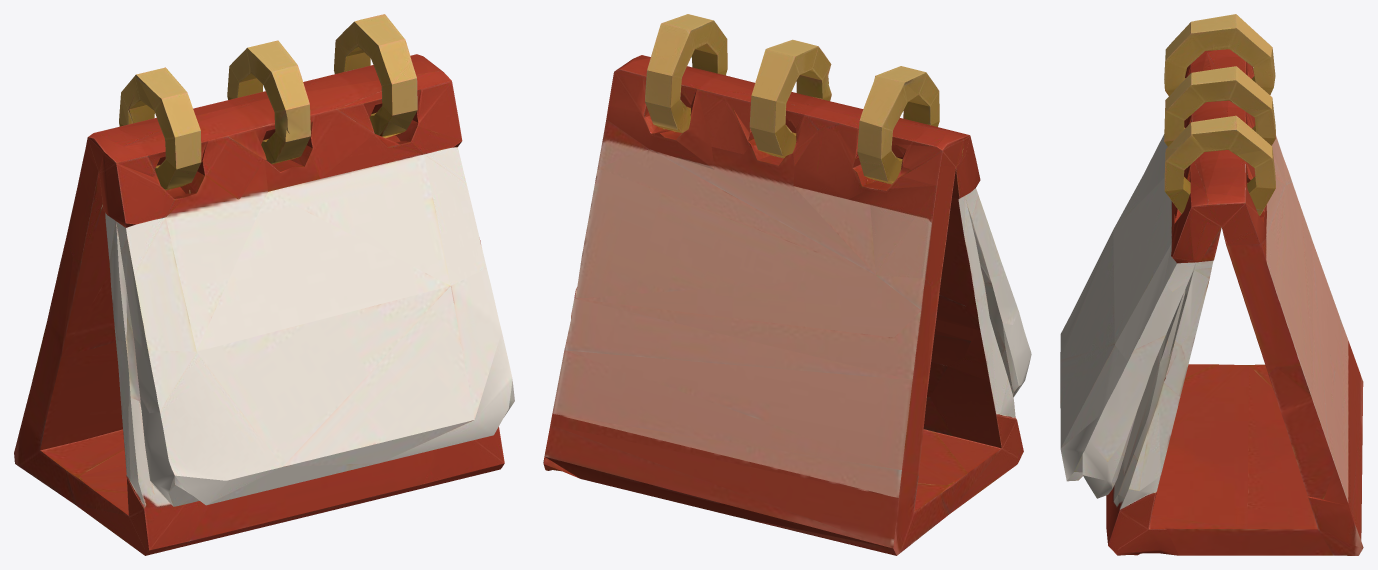
File: deskCalendar.glb
The picture shows the model from 3 angles, left to right: view 1: azimuth 30°, elevation 25°; view 2: azimuth 150°, elevation 25°; view 3: azimuth 270°, elevation 25°; orthographic projection. The views are drawn at different scales.
Visible parts, largest first — view 1: Mesh_0; view 2: Mesh_0; view 3: Mesh_0.
Boxes of the visible parts, <box> form: Mesh_0: <box>14,14,514,555</box>; Mesh_0: <box>543,14,1031,555</box>; Mesh_0: <box>1060,14,1363,555</box>.
Size of the model in its own units: 1.78 by 2 by 1.37.
Materials: 1 (1 with a texture image).
